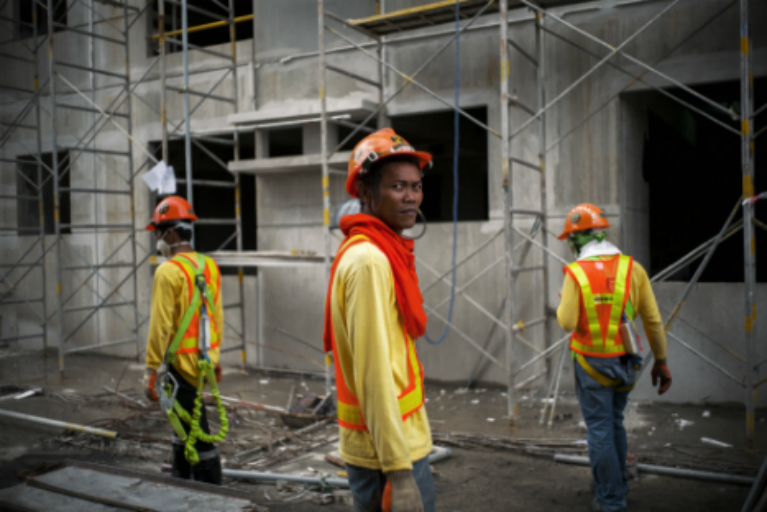Hard Hat: (344, 129, 430, 231), (146, 197, 197, 253), (554, 201, 606, 254)
Person: (298, 127, 438, 512), (542, 200, 671, 510), (142, 196, 243, 484)
Vest: (311, 165, 428, 428), (548, 227, 648, 370), (145, 224, 224, 370)
